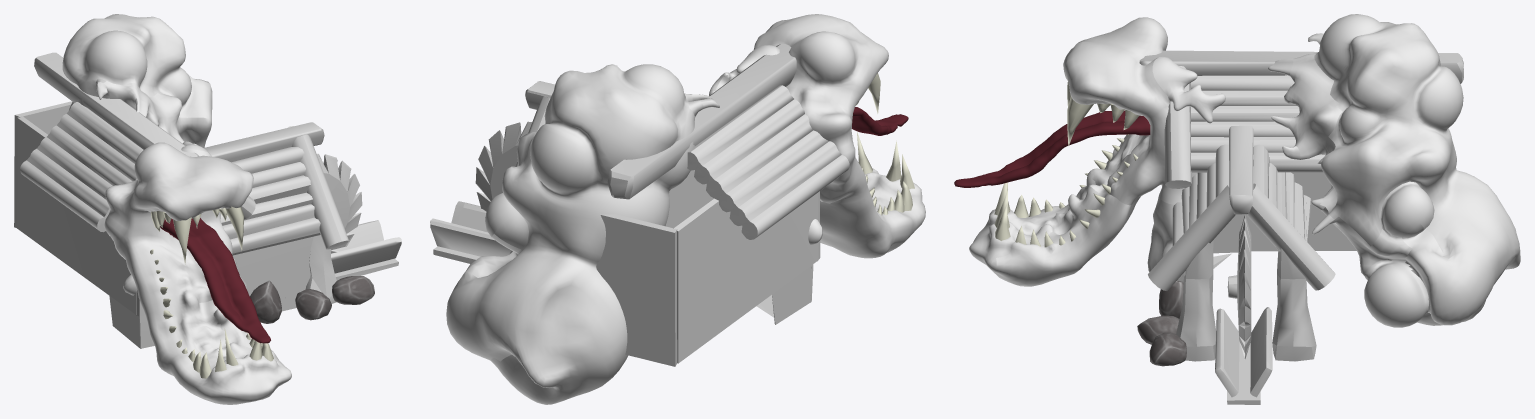
Rendered from ratusz-tartak2.fbx.
3 renders of one model, left to right at view 1: azimuth 30°, elevation 25°; view 2: azimuth 150°, elevation 25°; view 3: azimuth 270°, elevation 25°, orthographic. The views are drawn at different scales.
Visible parts, largest first — view 1: Cube_050, mieskoremeshed.001, Cube.043, Cube.046, Cylinder.008, Cylinder.009, Cylinder.028; view 2: mieskoremeshed.001, Cube_050, Cube.046, Cube.043; view 3: mieskoremeshed.001, Cube_050, Cube.043, Cube.046, Cylinder.008, Cylinder.028, Cylinder.009.
Part boxes in pixels (x1=…): Cube_050: x1=14, y1=52, x2=401, y2=348; mieskoremeshed.001: x1=62, y1=14, x2=291, y2=404; Cube.043: x1=160, y1=218, x2=270, y2=343; Cube.046: x1=150, y1=206, x2=273, y2=378; Cylinder.008: x1=332, y1=276, x2=374, y2=304; Cylinder.009: x1=250, y1=280, x2=281, y2=323; Cylinder.028: x1=295, y1=289, x2=331, y2=320; mieskoremeshed.001: x1=446, y1=14, x2=925, y2=404; Cube_050: x1=430, y1=44, x2=849, y2=366; Cube.046: x1=856, y1=73, x2=914, y2=215; Cube.043: x1=852, y1=107, x2=908, y2=135; mieskoremeshed.001: x1=969, y1=14, x2=1520, y2=327; Cube_050: x1=1139, y1=50, x2=1463, y2=404; Cube.043: x1=954, y1=110, x2=1150, y2=187; Cube.046: x1=994, y1=82, x2=1139, y2=247; Cylinder.008: x1=1149, y1=332, x2=1186, y2=366; Cylinder.028: x1=1137, y1=315, x2=1179, y2=344; Cylinder.009: x1=1159, y1=281, x2=1183, y2=318.
Size of the model in its own units: 2326 by 1776 by 3266.
Materials: 7 (3 with a texture image).
